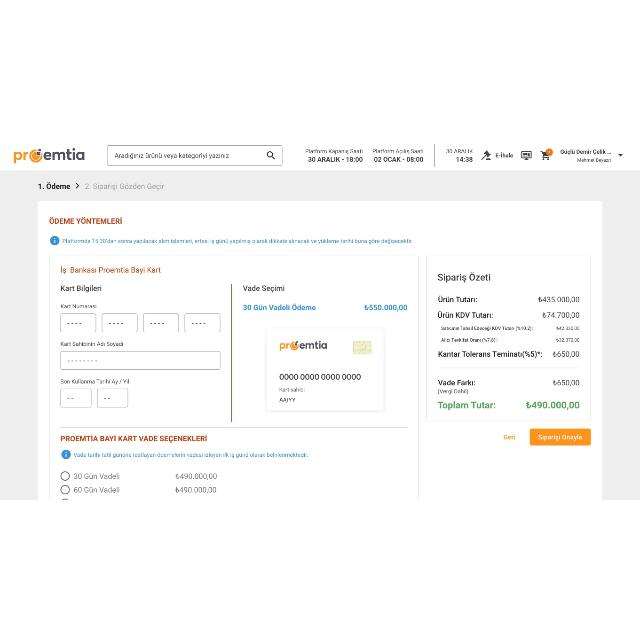QLabel: (61, 236, 413, 244), (60, 433, 208, 443), (73, 451, 309, 457), (59, 264, 163, 274), (438, 349, 542, 359), (436, 270, 492, 282), (441, 324, 534, 331), (438, 398, 497, 409), (46, 216, 124, 224), (436, 309, 496, 319), (242, 303, 316, 311), (525, 400, 581, 410), (536, 432, 584, 442), (362, 301, 408, 311), (60, 339, 124, 346), (60, 282, 104, 292), (242, 282, 286, 292), (436, 293, 479, 303), (175, 471, 218, 481), (60, 378, 130, 384), (72, 471, 120, 479), (440, 336, 498, 342), (305, 148, 363, 154), (538, 295, 580, 303), (176, 485, 218, 493), (308, 156, 362, 162), (436, 378, 476, 386), (560, 148, 612, 154), (372, 147, 423, 153), (542, 310, 580, 318), (374, 156, 424, 162), (74, 486, 120, 492), (552, 350, 580, 358), (552, 378, 580, 386), (61, 302, 98, 308), (576, 156, 612, 162), (436, 388, 469, 394), (555, 325, 581, 331), (446, 147, 472, 153), (556, 336, 580, 342), (501, 432, 517, 440), (495, 151, 513, 157), (456, 155, 472, 161)
VAppBar: (0, 140, 640, 170)
VBadge: (539, 148, 553, 160)
VBreadcrumbs: (36, 179, 166, 191)
VBtn: (530, 426, 592, 446)
VCard: (38, 198, 602, 500), (49, 255, 419, 499), (426, 254, 592, 422)
VDivider: (59, 425, 407, 429), (435, 364, 581, 370), (230, 282, 234, 422), (434, 143, 436, 167)
VIcon: (480, 148, 492, 160), (520, 148, 532, 160), (50, 234, 60, 246), (61, 449, 71, 459), (616, 152, 624, 156)
VImg: (265, 326, 387, 412), (13, 147, 85, 163)
VRadio: (60, 484, 70, 494), (60, 470, 70, 480)
VTextField: (107, 144, 283, 166), (61, 350, 221, 370), (60, 312, 96, 332), (143, 313, 179, 332), (185, 313, 221, 332), (102, 313, 138, 331), (60, 389, 92, 407), (98, 388, 128, 407)
